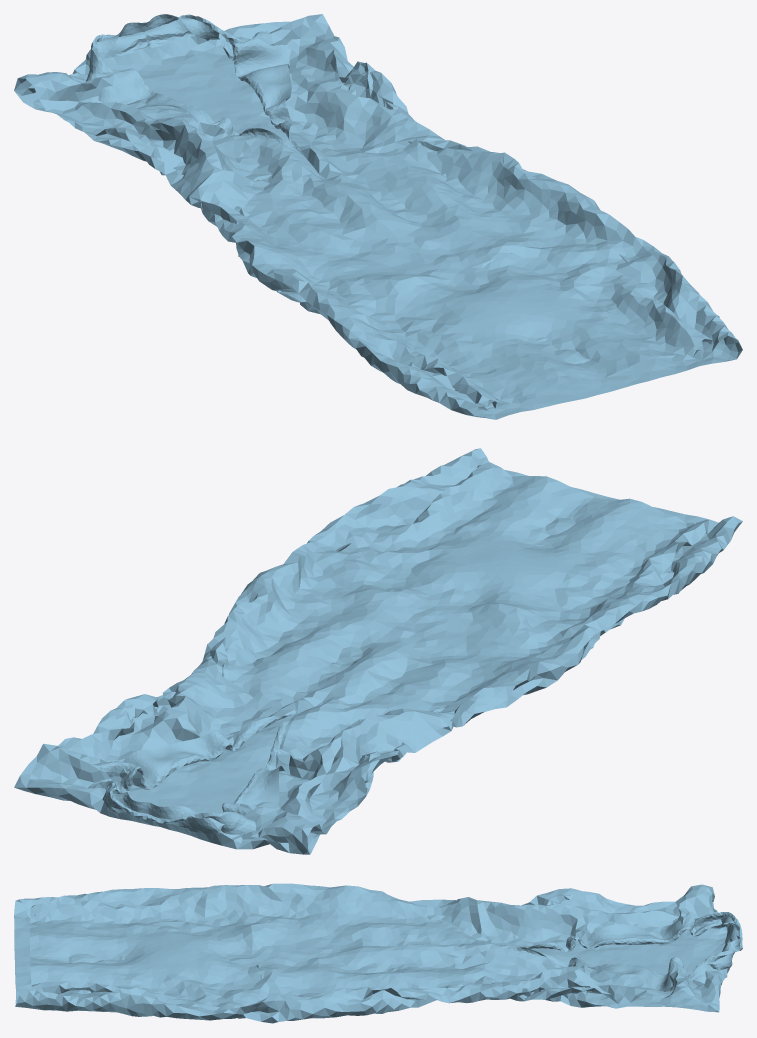
Rendered from frame_00.glb.
The picture shows the model from 3 angles, top to bottom: view 1: azimuth 30°, elevation 25°; view 2: azimuth 150°, elevation 25°; view 3: azimuth 270°, elevation 25°; orthographic projection. The views are drawn at different scales.
Parts seen in each view (by area): view 1: frame_00.obj; view 2: frame_00.obj; view 3: frame_00.obj.
Boxes of the visible parts, x1,y1,x2,y2 form: frame_00.obj: [14, 14, 742, 419]; frame_00.obj: [14, 448, 742, 854]; frame_00.obj: [14, 883, 742, 1023].
Size of the model in its own units: 0.648 by 0.0765 by 1.58.
